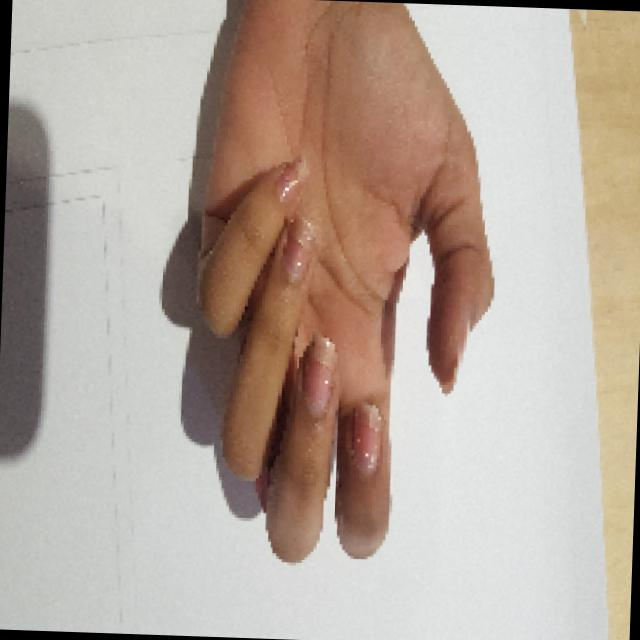Nail: (302, 334, 335, 414), (352, 403, 380, 474), (283, 218, 314, 282), (275, 156, 308, 203), (456, 329, 467, 375)
